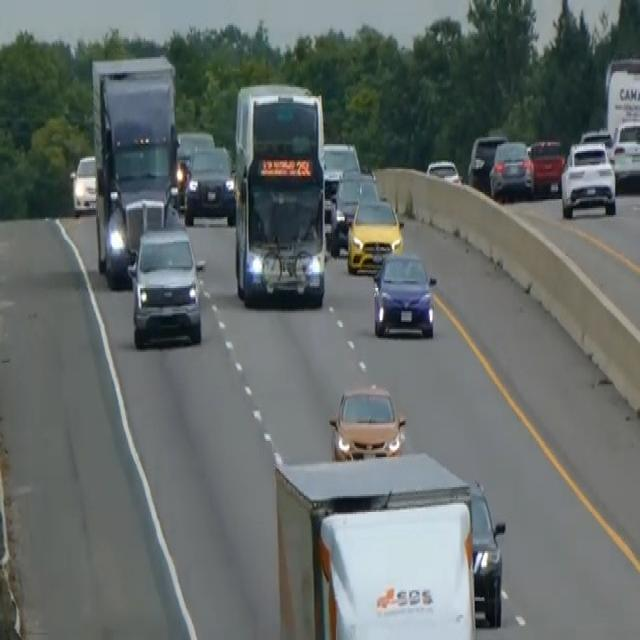bus: (232, 80, 327, 309)
car: (328, 380, 407, 460), (371, 247, 437, 340), (466, 478, 506, 628), (560, 138, 616, 218), (346, 196, 403, 274), (183, 144, 235, 226), (331, 169, 379, 252), (173, 128, 214, 204), (489, 137, 534, 201), (321, 140, 360, 201), (467, 132, 506, 190), (528, 135, 565, 194), (610, 116, 639, 186), (69, 153, 97, 217), (579, 126, 614, 158), (425, 156, 462, 185)
jeep: (124, 222, 205, 348)
lorry: (89, 51, 181, 282)
